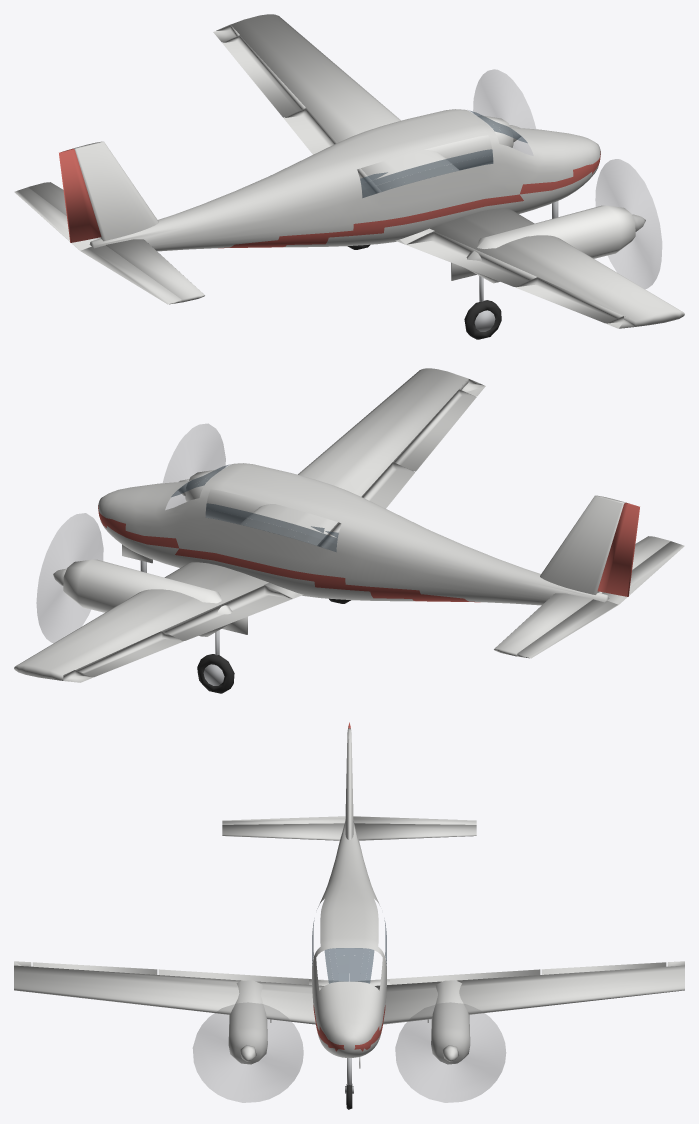
The model's file is duet_lod1.glb.
The picture shows the model from 3 angles, top to bottom: view 1: azimuth 30°, elevation 25°; view 2: azimuth 150°, elevation 25°; view 3: azimuth 270°, elevation 25°; orthographic projection. The views are drawn at different scales.
Visible parts, largest first — view 1: fuselage, wing_L, wing_R, prop_2_disc, fin, nacelle_2, stabilizer, elevator, prop_1_disc, glass, flap_R_1, rudder (+5 smaller); view 2: fuselage, wing_R, wing_L, prop_1_disc, fin, nacelle_1, stabilizer, elevator, prop_2_disc, glass, flap_L_1, rudder (+5 smaller); view 3: fuselage, wing_L, wing_R, prop_1_disc, prop_2_disc, stabilizer, nacelle_2, nacelle_1, glass, elevator, flap_R_1, flap_L_1 (+3 smaller).
Boxes of the visible parts, left/top/right/bottom form: fuselage: left=89, top=109, right=600, bottom=251; wing_L: left=213, top=14, right=459, bottom=191; wing_R: left=395, top=208, right=684, bottom=328; prop_2_disc: left=595, top=159, right=661, bottom=288; fin: left=73, top=141, right=158, bottom=241; nacelle_2: left=466, top=205, right=635, bottom=283; stabilizer: left=28, top=182, right=204, bottom=302; elevator: left=14, top=187, right=181, bottom=304; prop_1_disc: left=473, top=69, right=535, bottom=155; glass: left=360, top=110, right=527, bottom=197; flap_R_1: left=406, top=231, right=536, bottom=286; rudder: left=59, top=148, right=101, bottom=242; fuselage: left=98, top=463, right=609, bottom=605; wing_R: left=239, top=368, right=485, bottom=545; wing_L: left=14, top=562, right=303, bottom=682; prop_1_disc: left=36, top=513, right=103, bottom=642; fin: left=540, top=495, right=625, bottom=594; nacelle_1: left=63, top=559, right=232, bottom=636; stabilizer: left=494, top=536, right=670, bottom=656; elevator: left=517, top=541, right=684, bottom=658; prop_2_disc: left=163, top=424, right=225, bottom=509; glass: left=171, top=464, right=338, bottom=551; flap_L_1: left=162, top=585, right=292, bottom=640; rudder: left=597, top=502, right=639, bottom=596; fuselage: left=312, top=821, right=386, bottom=1057; wing_L: left=351, top=961, right=684, bottom=1024; wing_R: left=14, top=961, right=347, bottom=1024; prop_1_disc: left=395, top=1002, right=505, bottom=1102; prop_2_disc: left=193, top=1002, right=303, bottom=1102; stabilizer: left=222, top=823, right=476, bottom=840; nacelle_2: left=228, top=980, right=267, bottom=1064; nacelle_1: left=431, top=980, right=470, bottom=1064; glass: left=312, top=908, right=386, bottom=983; elevator: left=222, top=816, right=476, bottom=824; flap_R_1: left=158, top=969, right=308, bottom=984; flap_L_1: left=390, top=969, right=540, bottom=984.
Bounding box in the file's own units: 8.9 × 3.62 × 11.6.
